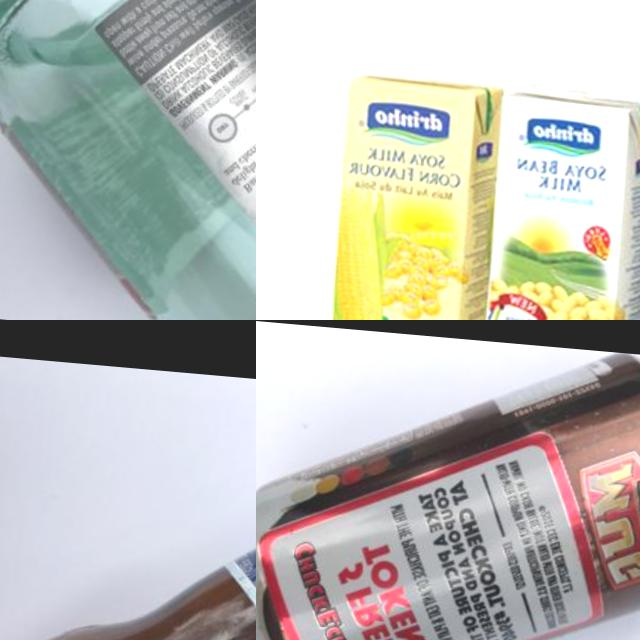caixinha: (326, 67, 495, 320), (482, 81, 640, 320), (482, 200, 488, 202)
garrafa de vidro: (0, 0, 256, 320), (0, 428, 256, 640)
lata: (256, 320, 640, 640)
